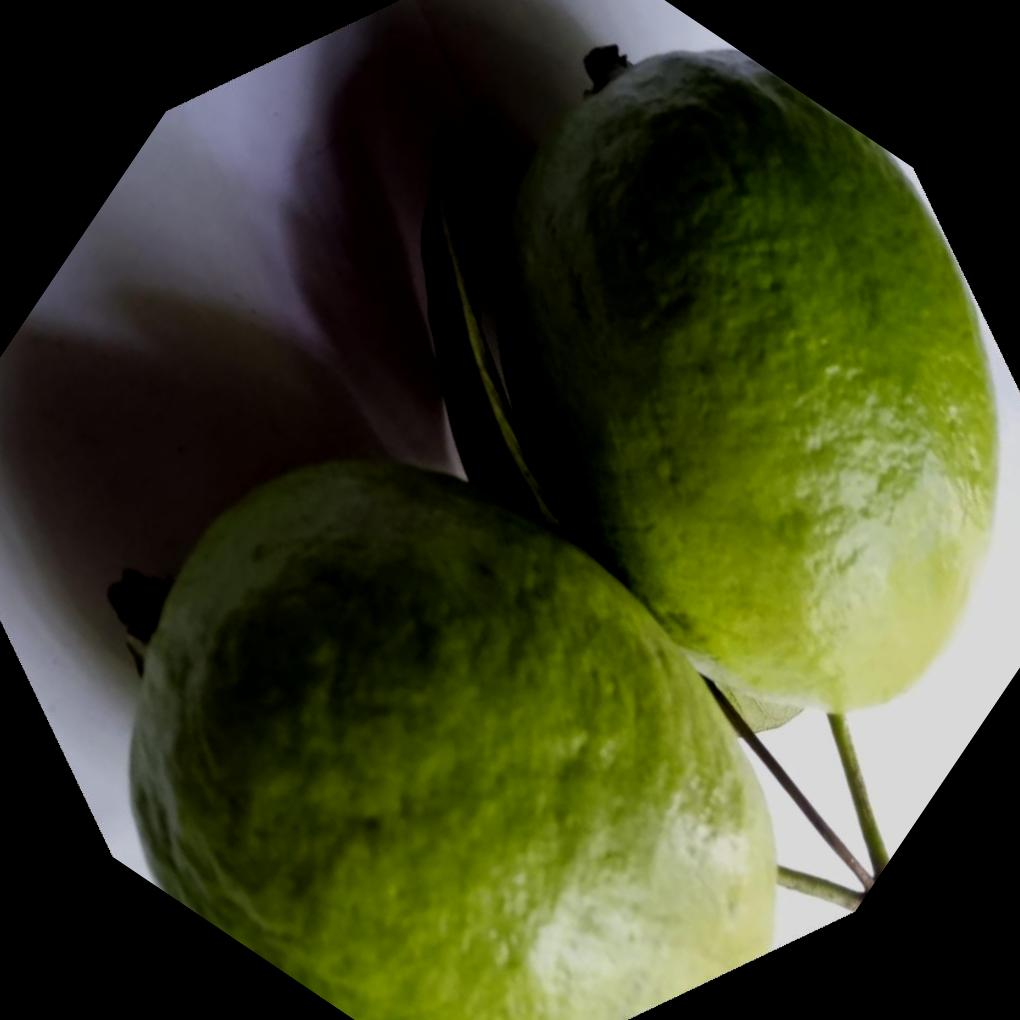FreshGuava: (127, 44, 1007, 1020)
